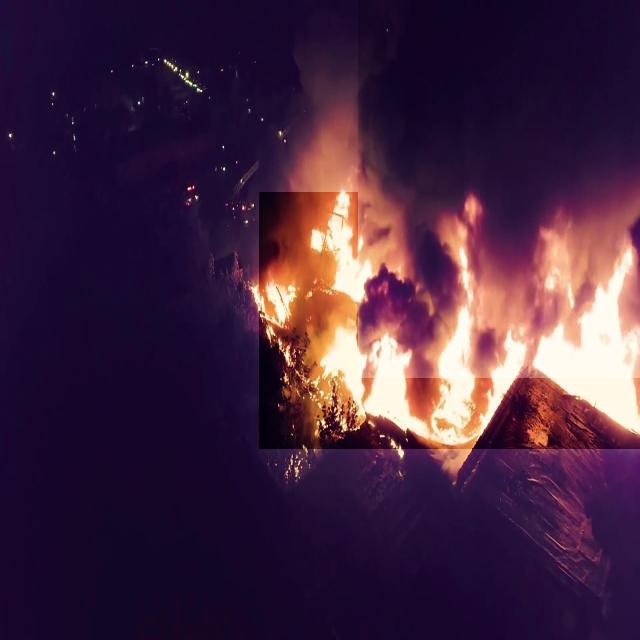Fire: (259, 192, 640, 449)
Smoke: (358, 0, 640, 378)
